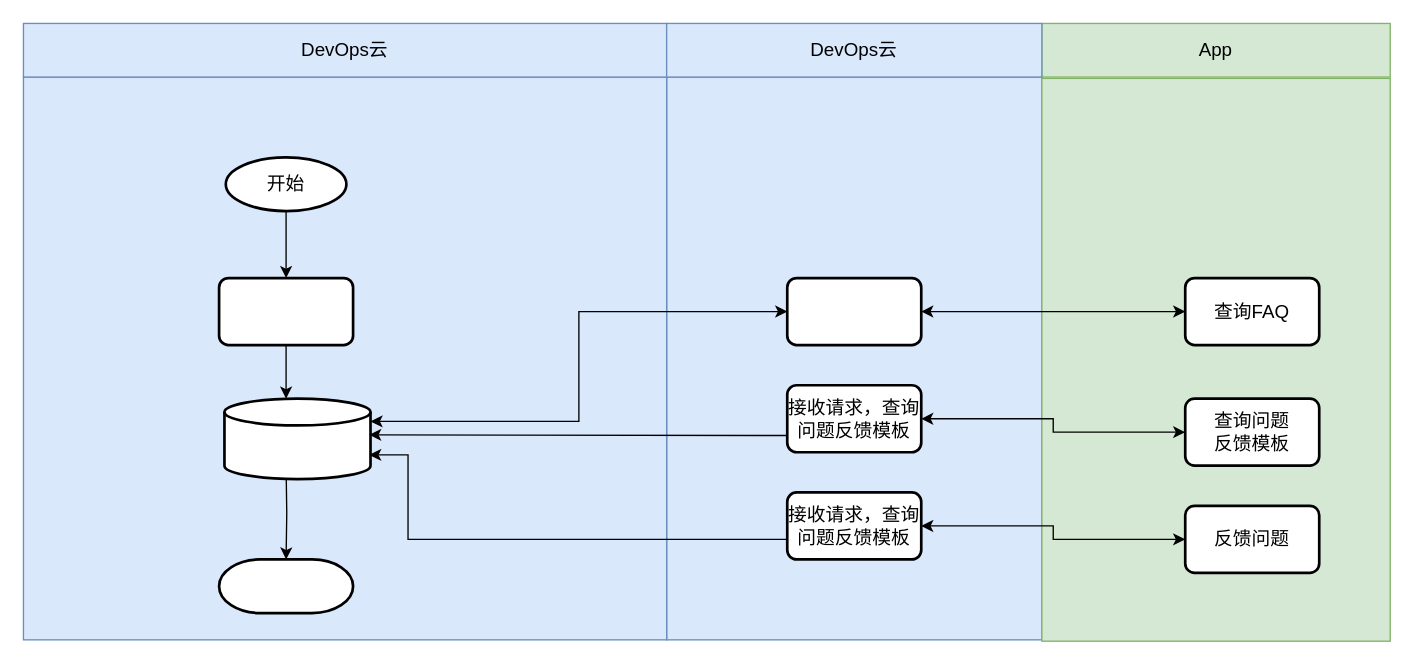
Image size: 1414x665. Some labels were removed from this diagram. Here are the shapes that lost their labels. From the top down, the centre of each, then its label:
At point (285, 311): "维护FAQ知识库与反馈的问题".
At point (853, 311): "接收请求，查询FAQ".
At point (285, 585): "结束".
